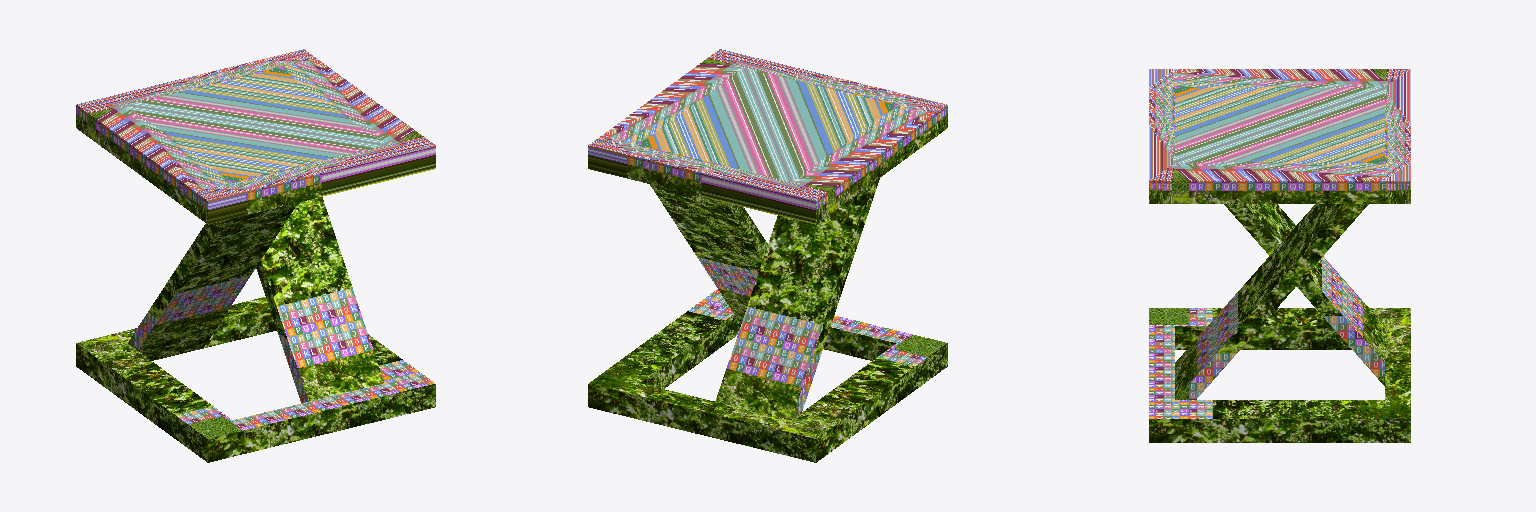
3 views of the same model, side by side, from view 1: azimuth 30°, elevation 25°; view 2: azimuth 150°, elevation 25°; view 3: azimuth 270°, elevation 25° (orthographic).
Parts seen in each view (by area): view 1: cube1; view 2: cube1; view 3: cube1.
Part boxes in pixels (bbox=[...]): cube1: bbox=[76, 49, 435, 462]; cube1: bbox=[588, 49, 947, 462]; cube1: bbox=[1149, 69, 1410, 442].
Size of the model in its own units: 1 by 1.1 by 1.
1 materials, 1 textured.